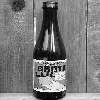beer: (35, 1, 69, 100)
